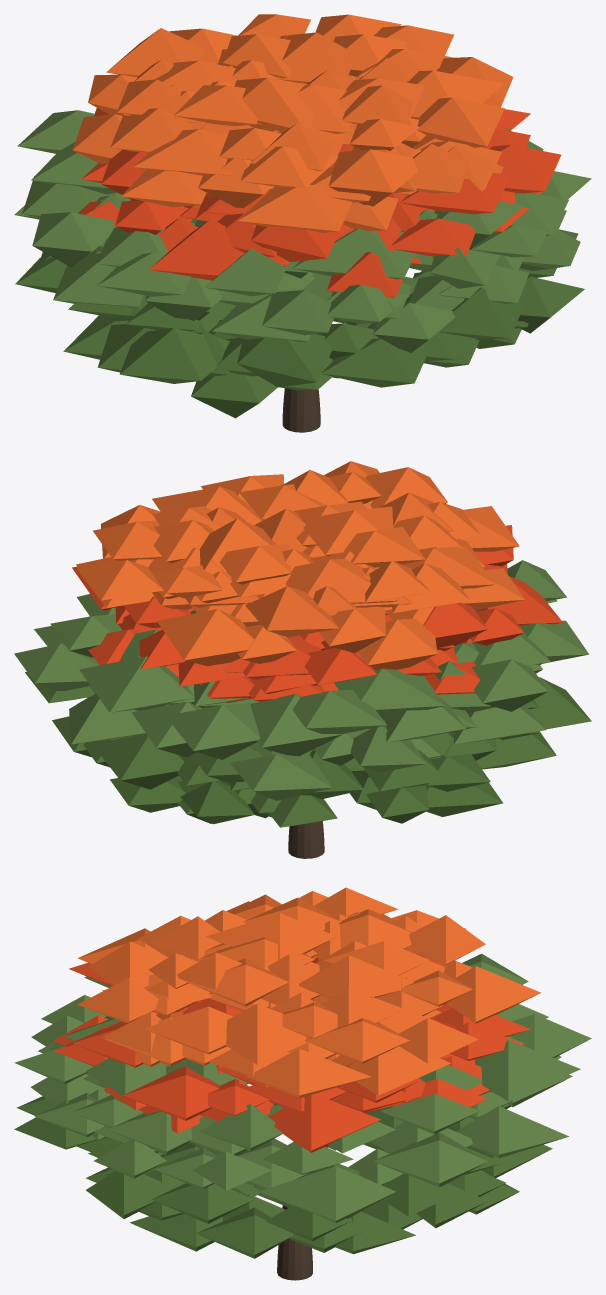
The model's file is flamboyant.glb.
3 views of the same model, one above another, from view 1: azimuth 30°, elevation 25°; view 2: azimuth 150°, elevation 25°; view 3: azimuth 270°, elevation 25° (orthographic). The views are drawn at different scales.
Visible parts, largest first — view 1: FLAMBOYANT_HERO; view 2: FLAMBOYANT_HERO; view 3: FLAMBOYANT_HERO.
Boxes of the visible parts, box(x1,y1,x2,y2) form: FLAMBOYANT_HERO: box(14, 14, 591, 432); FLAMBOYANT_HERO: box(14, 461, 591, 858); FLAMBOYANT_HERO: box(14, 887, 591, 1280).
Bounding box in the file's own units: 17.39 × 11.45 × 17.62.
